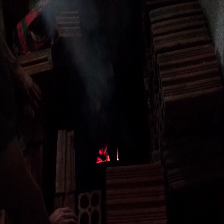fire_l: (95, 146, 110, 164), (116, 150, 120, 161)
